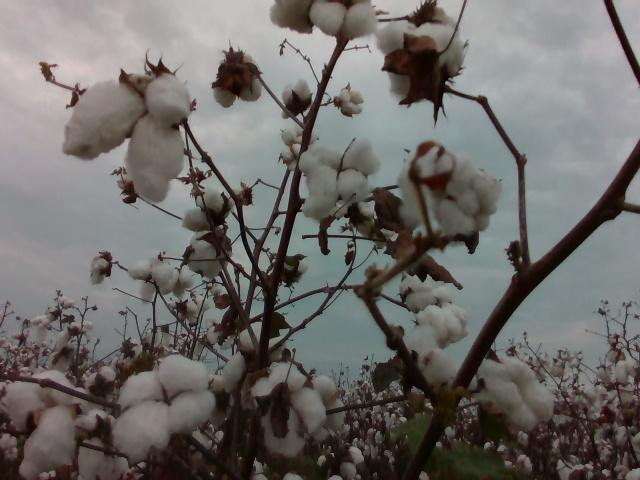cotton_ready: (62, 73, 190, 205), (112, 356, 218, 465), (3, 371, 91, 479), (380, 24, 466, 105), (254, 361, 327, 455), (299, 139, 382, 220), (399, 150, 475, 226), (479, 358, 555, 431), (225, 322, 290, 397), (435, 168, 504, 236), (74, 411, 129, 480), (405, 327, 456, 386), (211, 52, 264, 108), (310, 0, 378, 36), (130, 247, 173, 302), (419, 304, 470, 350), (183, 188, 235, 232), (187, 239, 232, 278), (399, 274, 441, 313), (271, 0, 313, 34), (409, 6, 459, 30), (282, 79, 312, 113), (281, 125, 320, 147), (335, 90, 365, 115), (282, 145, 307, 170)
